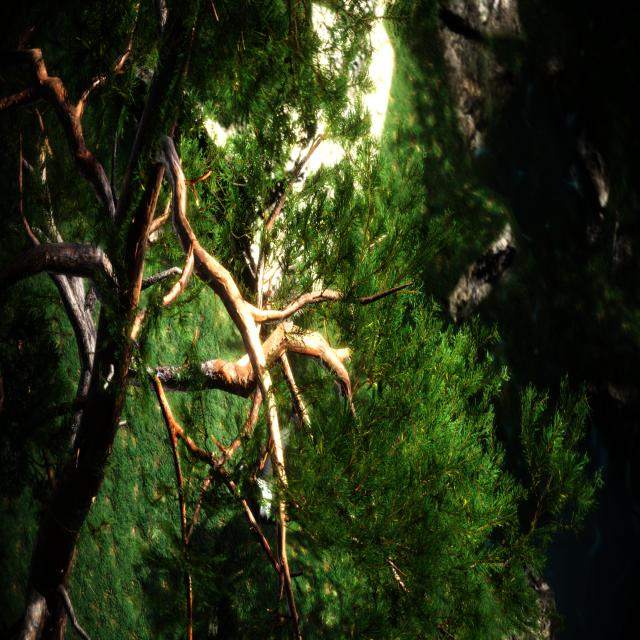Human: (238, 421, 290, 529)
